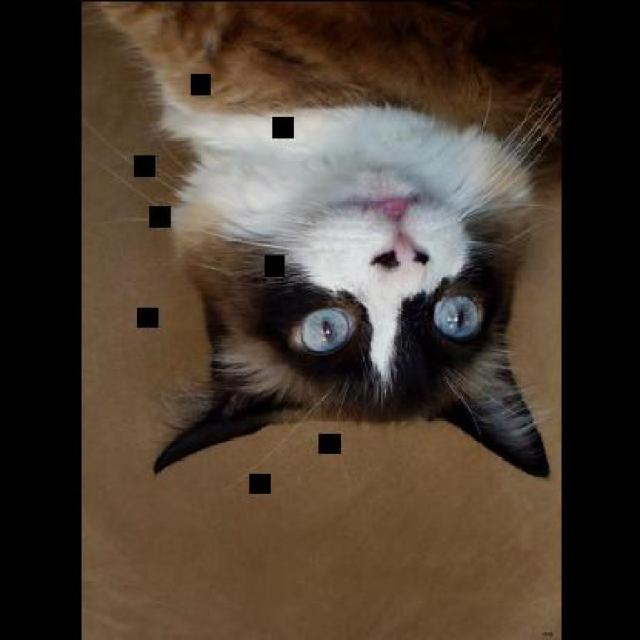unauthorized: (83, 0, 561, 478)
